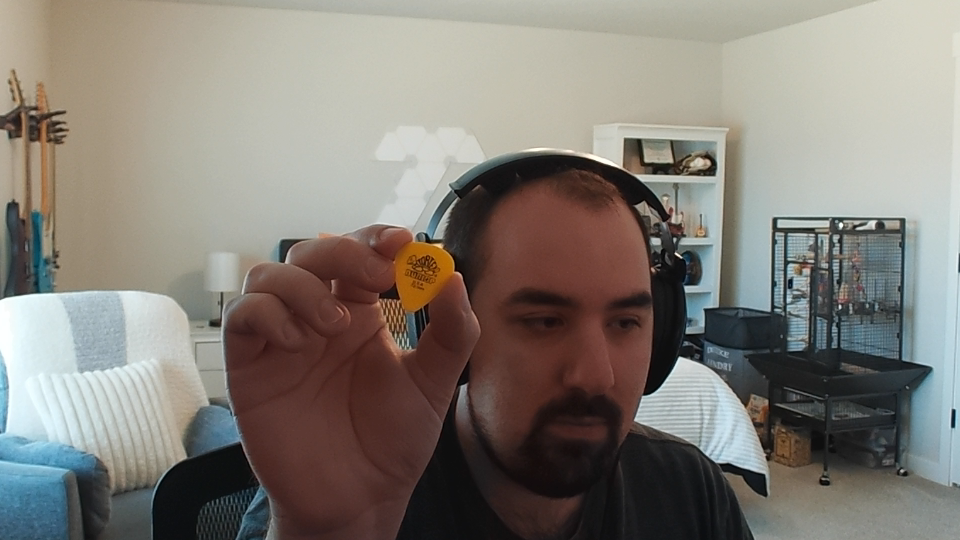GuitarPick: (394, 241, 456, 314)
